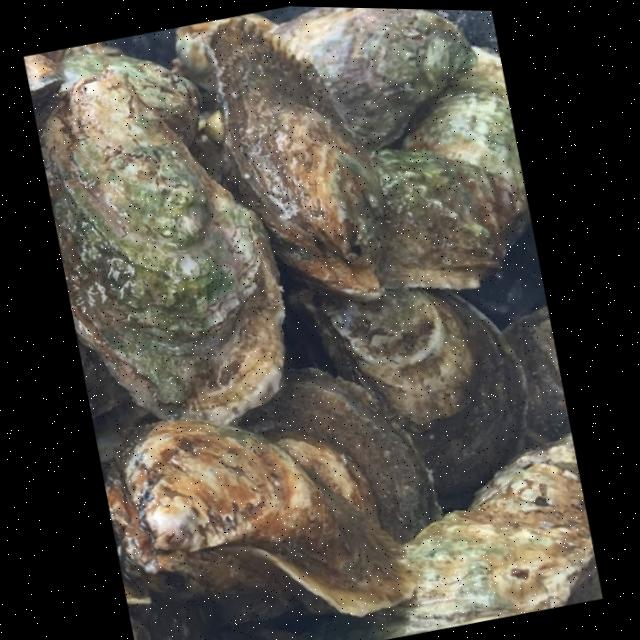Oyster-Indeterminate: (38, 71, 285, 428), (104, 421, 418, 631), (284, 270, 529, 511), (321, 432, 603, 640), (208, 14, 386, 301), (227, 368, 443, 543), (273, 7, 479, 152), (369, 151, 530, 289), (398, 46, 527, 197), (51, 52, 201, 149), (504, 307, 571, 450), (175, 12, 278, 96), (23, 53, 65, 110)
